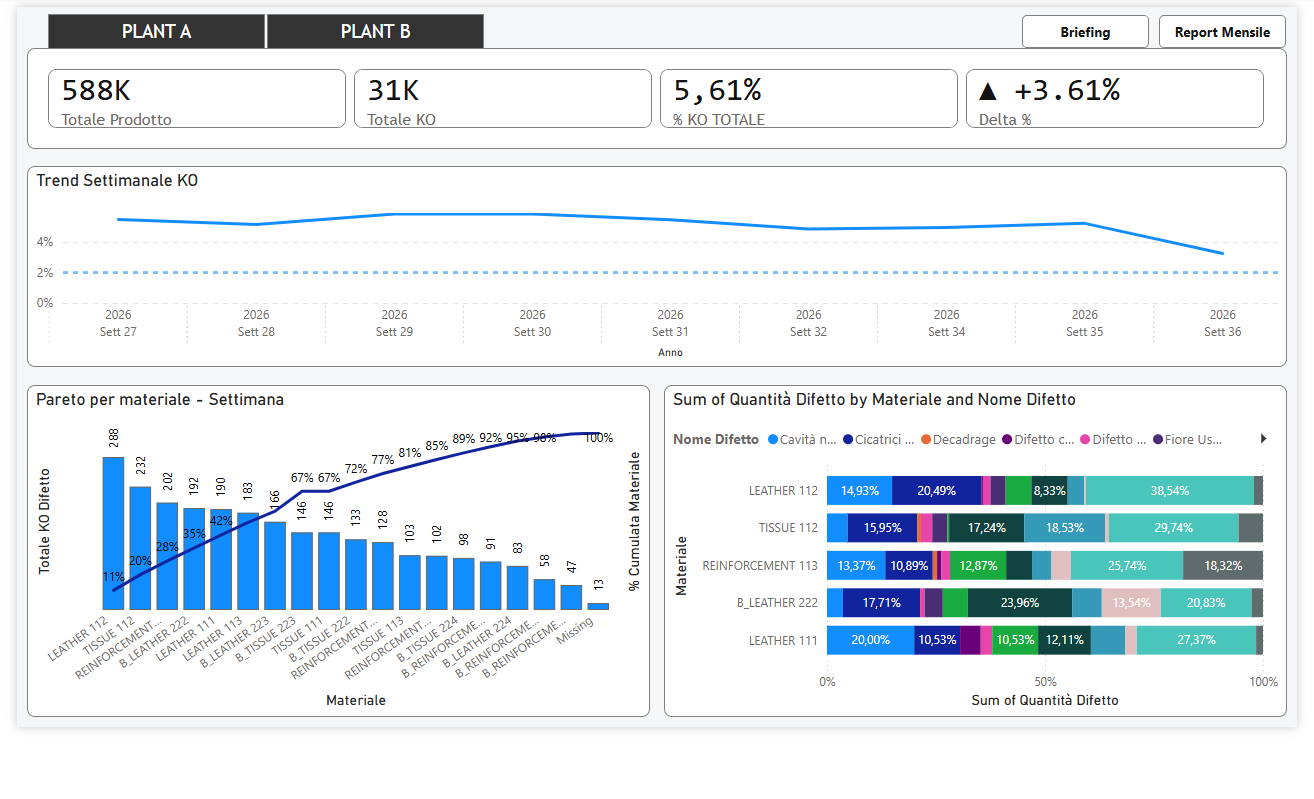

What the dashboard file says about the page in this screenshot:
{"tool":"powerbi","page":{"name":"Totale","canvas":[1280,720],"ordinal":2},"visuals":[{"type":"cardVisual","fields":{"Data":["Misure.Totale Ordine","Misure.Totale KO","Misure.% KO TOTALE","Misure.TOTALE Delta % con indicatore"]},"box":[10,41,1260,101],"z":0},{"type":"lineChart","title":"Trend Settimanale KO","fields":{"Category":["Calendario.Settimana","Calendario.Anno","Calendario.Trimestre","Calendario.Mese Num"],"Y":["_Misure.Loss Rate %"]},"box":[10,159,1260,201],"z":1000},{"type":"slicer","fields":{"Values":["CMZ_Data_Entry.Plant"]},"box":[10,0,481,41],"z":3000},{"type":"pageNavigator","box":[1005,8,265,33],"z":4000},{"type":"lineClusteredColumnComboChart","title":"Pareto per materiale - Settimana","fields":{"Category":["CMZ_Data_Entry.Materiale"],"Y":["_Misure.Totale KO Difetto"],"Y2":["_Misure.% Cumulata Materiale"]},"box":[10,378,623,332],"z":5000},{"type":"hundredPercentStackedBarChart","fields":{"Category":["CMZ_Data_Entry.Materiale"],"Series":["CMZ_Data_Entry.Nome Difetto"],"Y":["Sum(CMZ_Data_Entry.Quantità Difetto)"]},"box":[647,378,623,332],"z":5001}]}

Visuals, with their boxes on the page's 1280x720 design canvas (x1, y1, x2, y2). These are canvas units, not pixel positions in the 1314x799 screenshot, which may show the page scaled, cropped or inside an application window:
cardVisual - Misure.Totale Ordine x Misure.Totale KO: <bbox>10, 41, 1270, 142</bbox>
"Trend Settimanale KO" lineChart: <bbox>10, 159, 1270, 360</bbox>
slicer - CMZ_Data_Entry.Plant: <bbox>10, 0, 491, 41</bbox>
pageNavigator: <bbox>1005, 8, 1270, 41</bbox>
"Pareto per materiale - Settimana" lineClusteredColumnComboChart: <bbox>10, 378, 633, 710</bbox>
hundredPercentStackedBarChart - CMZ_Data_Entry.Materiale x CMZ_Data_Entry.Nome Difetto: <bbox>647, 378, 1270, 710</bbox>
